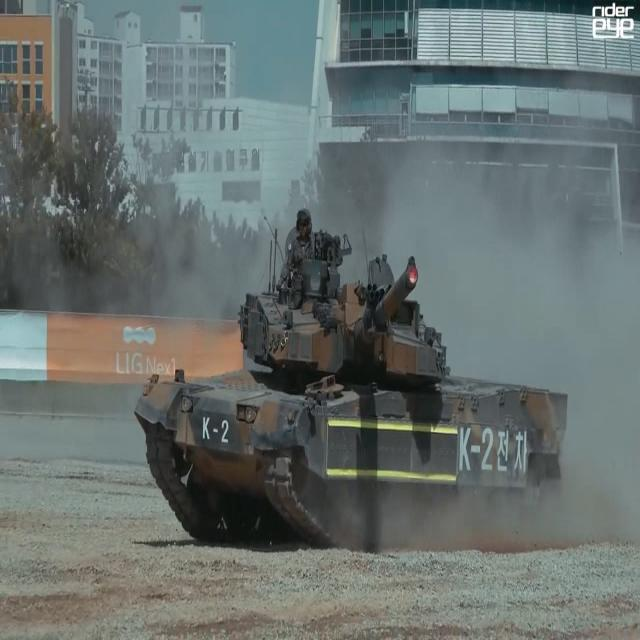korea tank: (131, 207, 569, 556)
